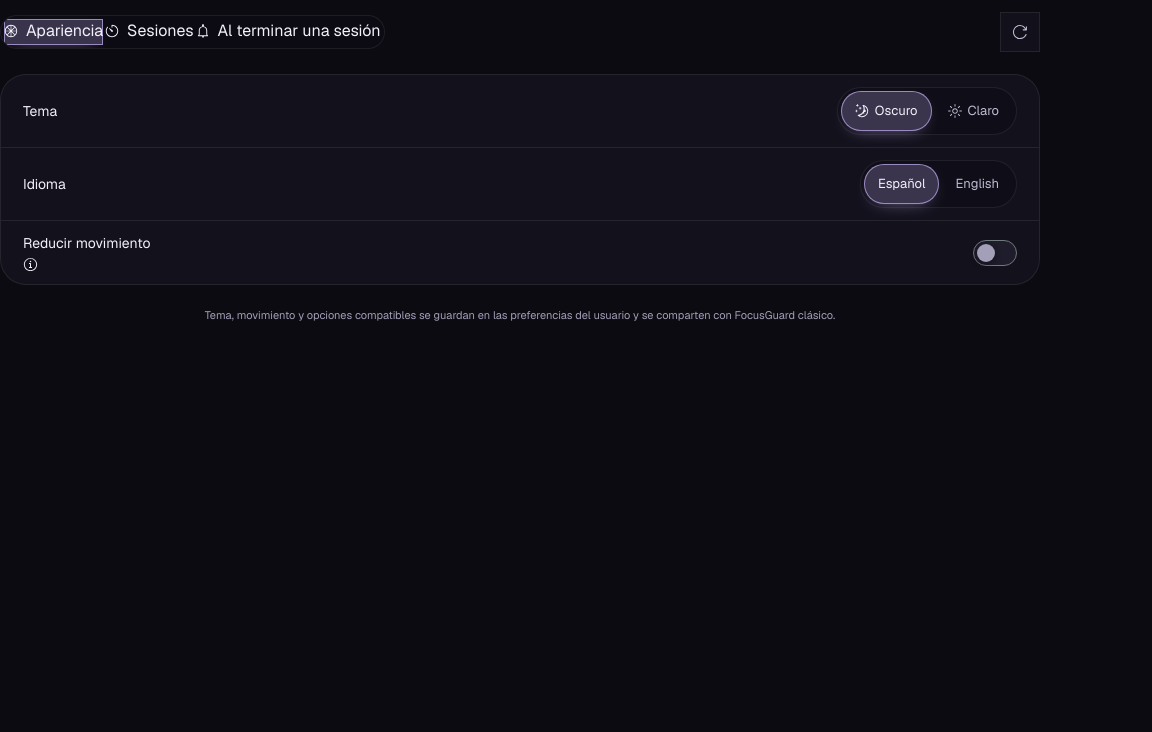
Test case: PreferencesPanel › shows the save bar only after a change and discards back to the saved values
This screenshot has width=1152, height=732.
Click the radio button named "pref-theme" at (973,111), box [948,102,999,119]
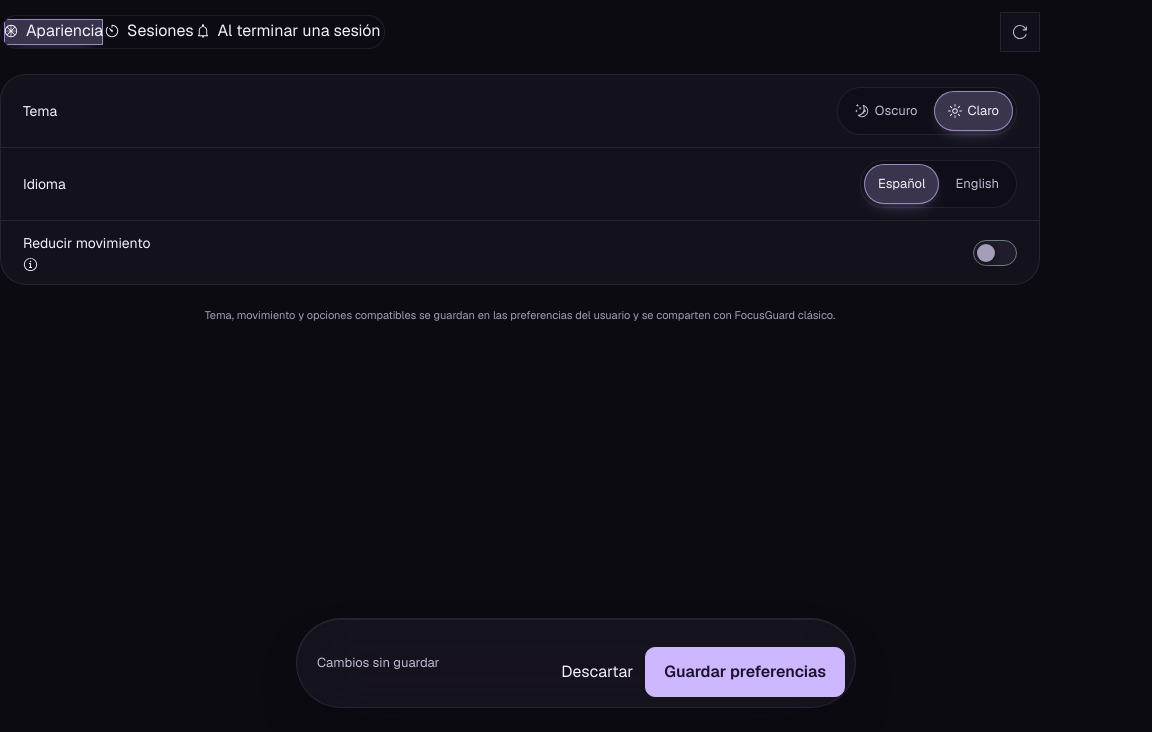
Expected: the element showing "Cambios sin guardar Descartar Guardar preferencias" is shown, [296,618,856,708]
Click the button "Descartar" at (597,672), box [561,660,633,684]
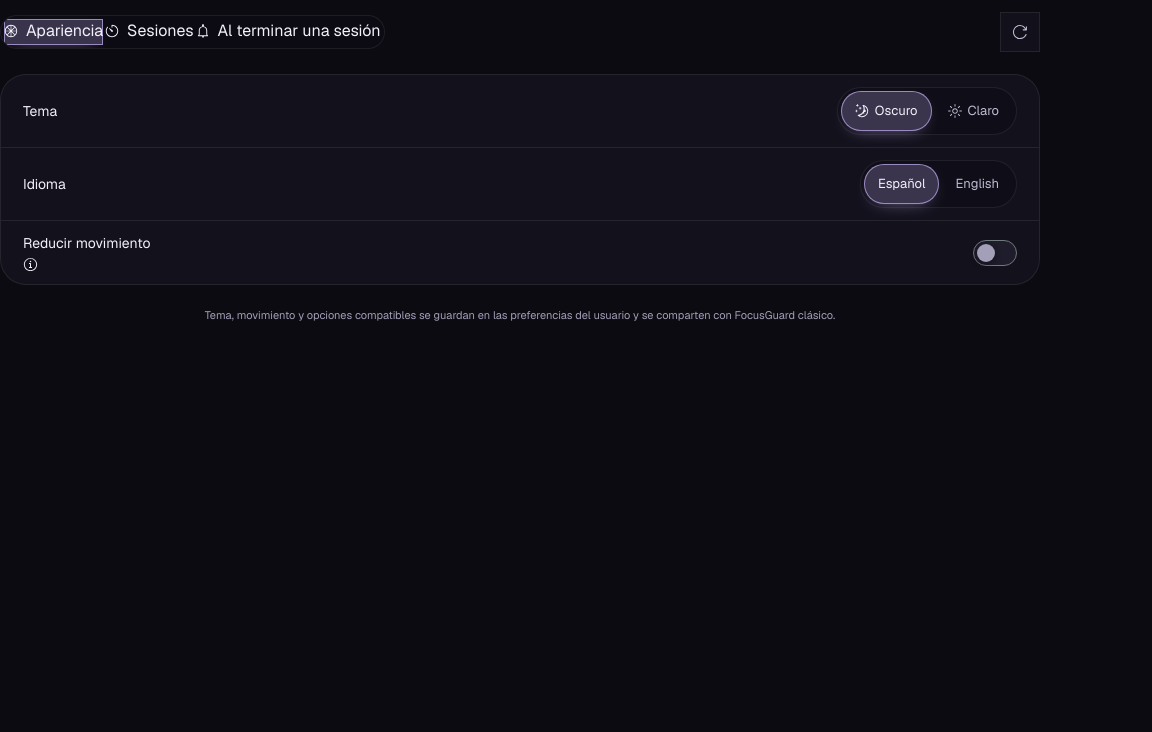
Expected: the radio button named "pref-theme" is checked, [841,91,932,131]
